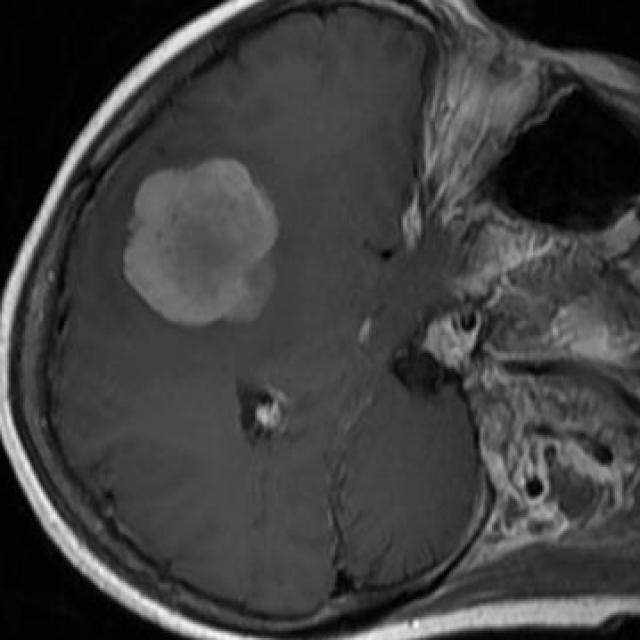meningioma: (123, 160, 278, 326)
